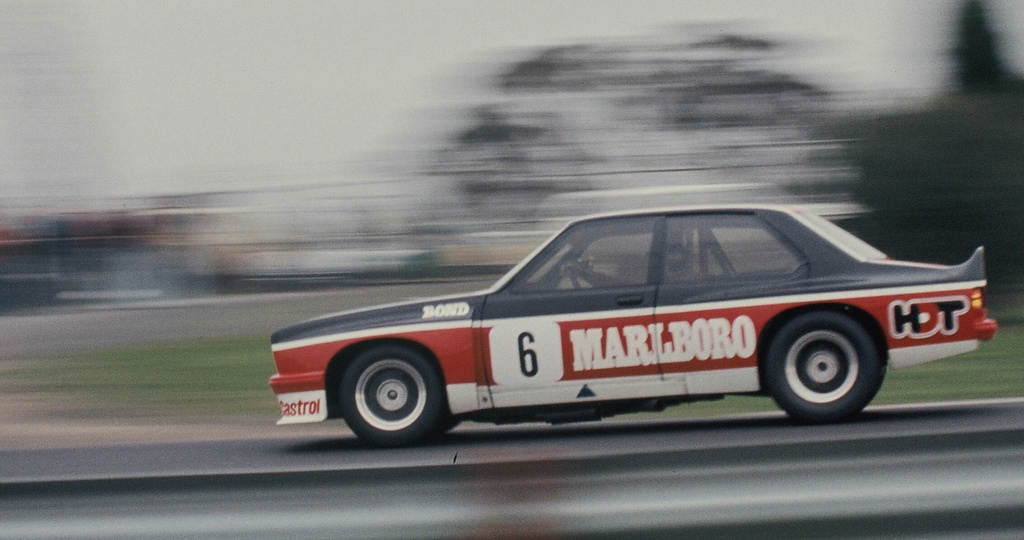Car: (267, 203, 995, 446)
